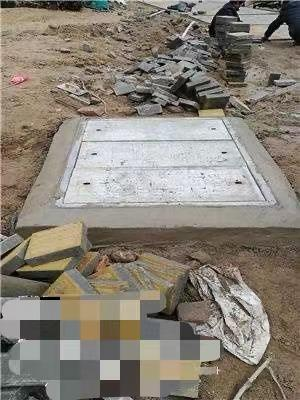wellcover: (13, 101, 300, 241)
